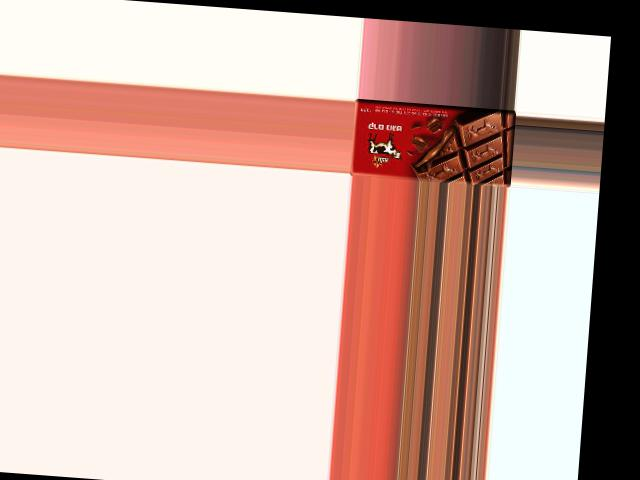chocolate: (349, 99, 514, 187)
